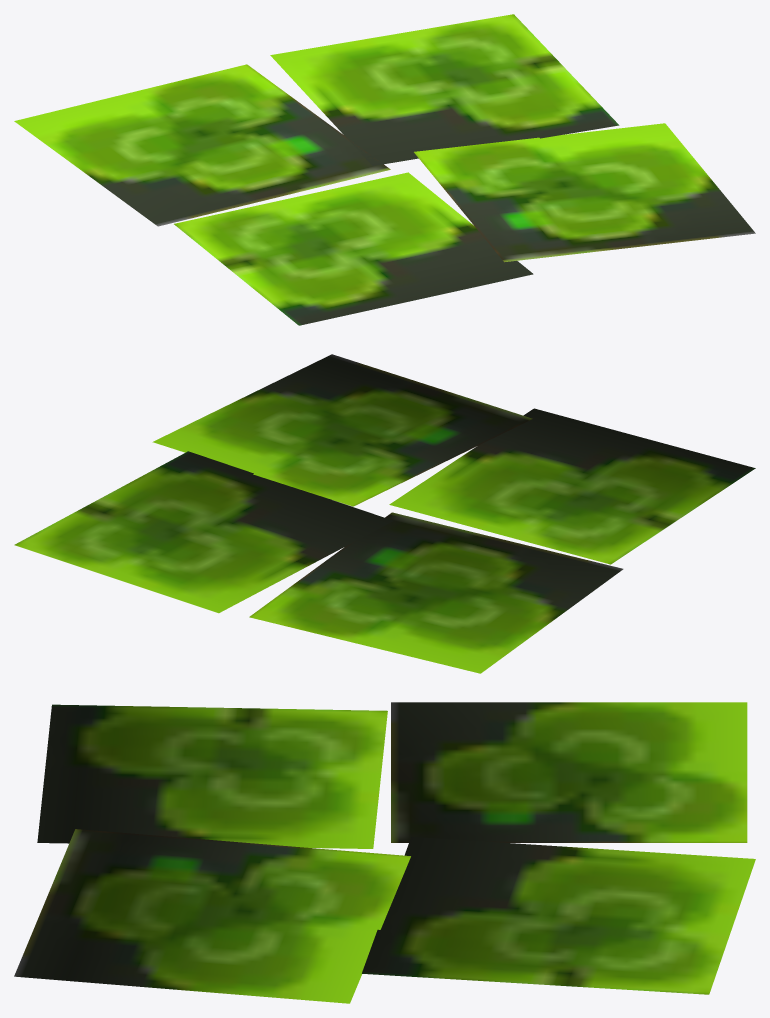
Rendered from fg_grassE.dae.
The picture shows the model from 3 angles, top to bottom: view 1: azimuth 30°, elevation 25°; view 2: azimuth 150°, elevation 25°; view 3: azimuth 270°, elevation 25°; orthographic projection. The views are drawn at different scales.
Visible parts, largest first — view 1: fg_grassE; view 2: fg_grassE; view 3: fg_grassE.
Part boxes in pixels (x1,y1,x2,y2): fg_grassE: [14, 14, 755, 325]; fg_grassE: [14, 354, 755, 673]; fg_grassE: [14, 702, 755, 1003].
Bounding box in the file's own units: 23.5 × 0.3916 × 24.87.
1 material, 1 textured.
